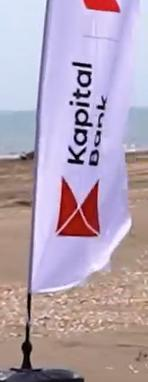Kapital Bank: (52, 174, 103, 239)
